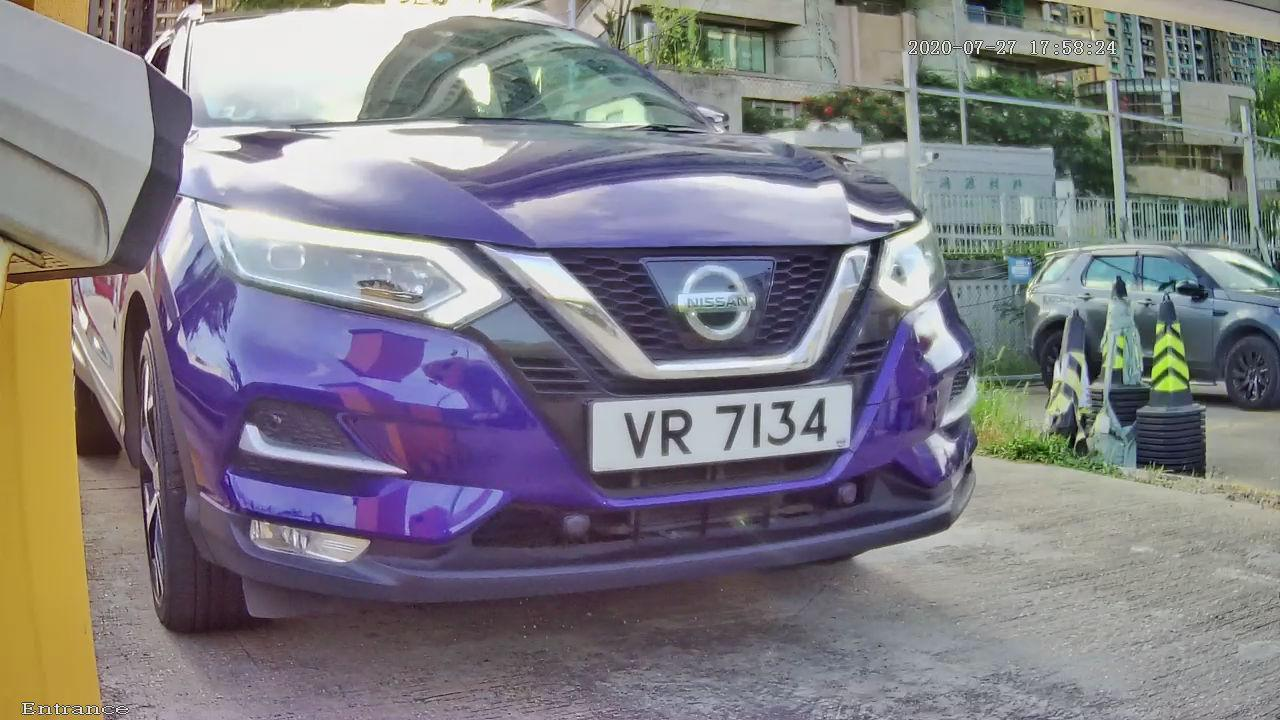privatecar: (41, 23, 1098, 643)
